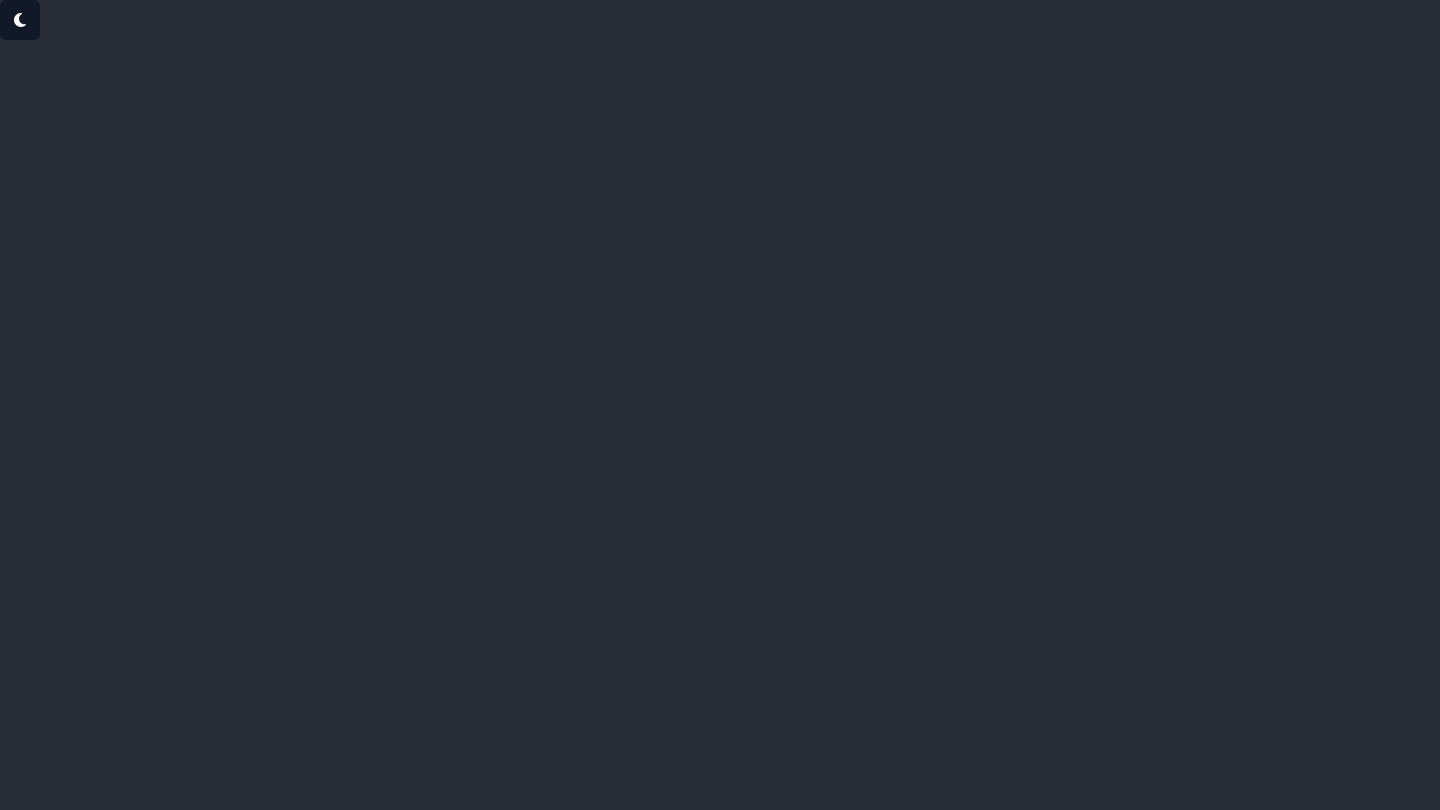
defaults to dark and persists both theme choices
The width and height of the screenshot is (1440, 810).
Later steps or results of the test are not shown.
Click the button named "Attiva tema chiaro". click: (20, 20)
box: [0,0,40,40]
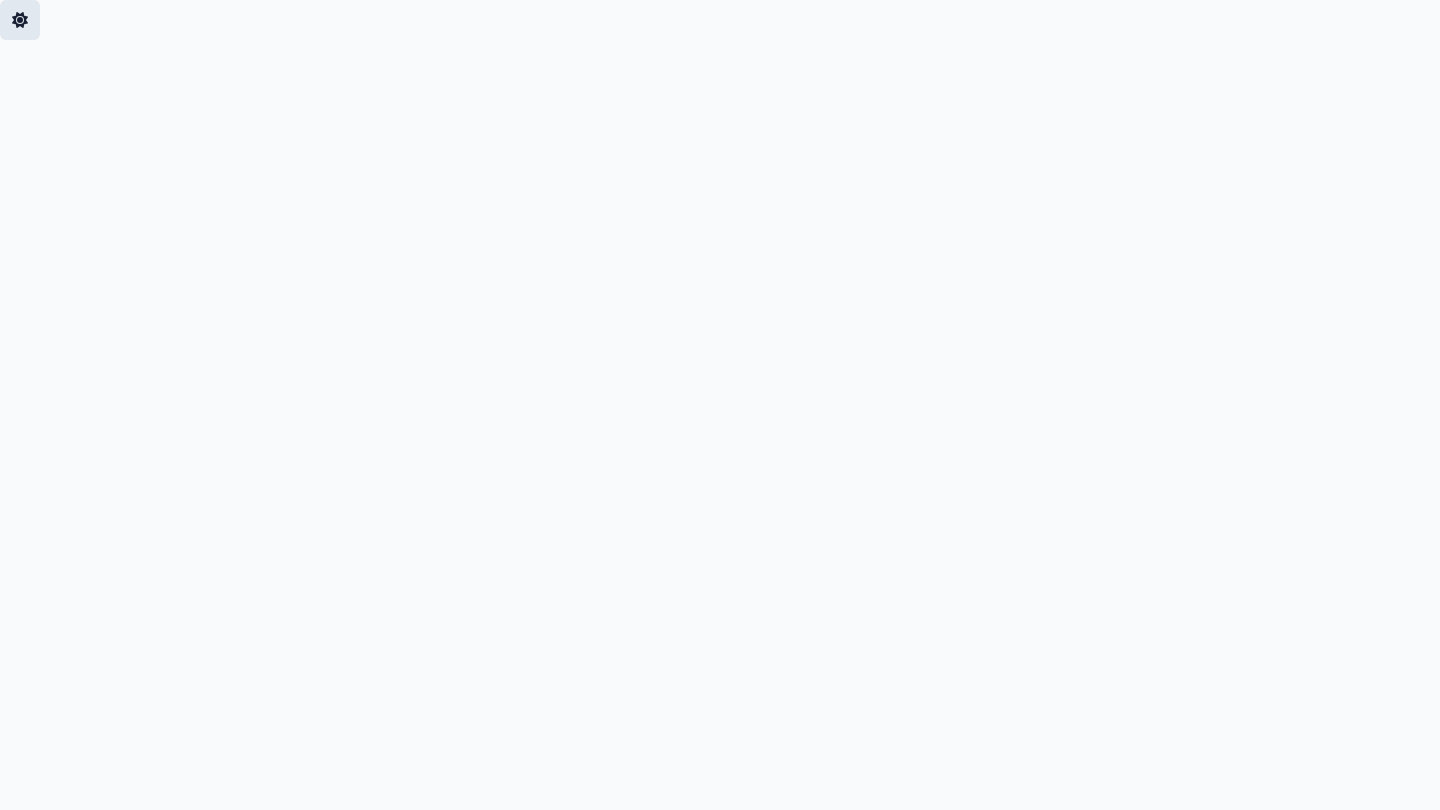
Check: the picture has attribute data-icon="sun", box [12,12,28,28]
